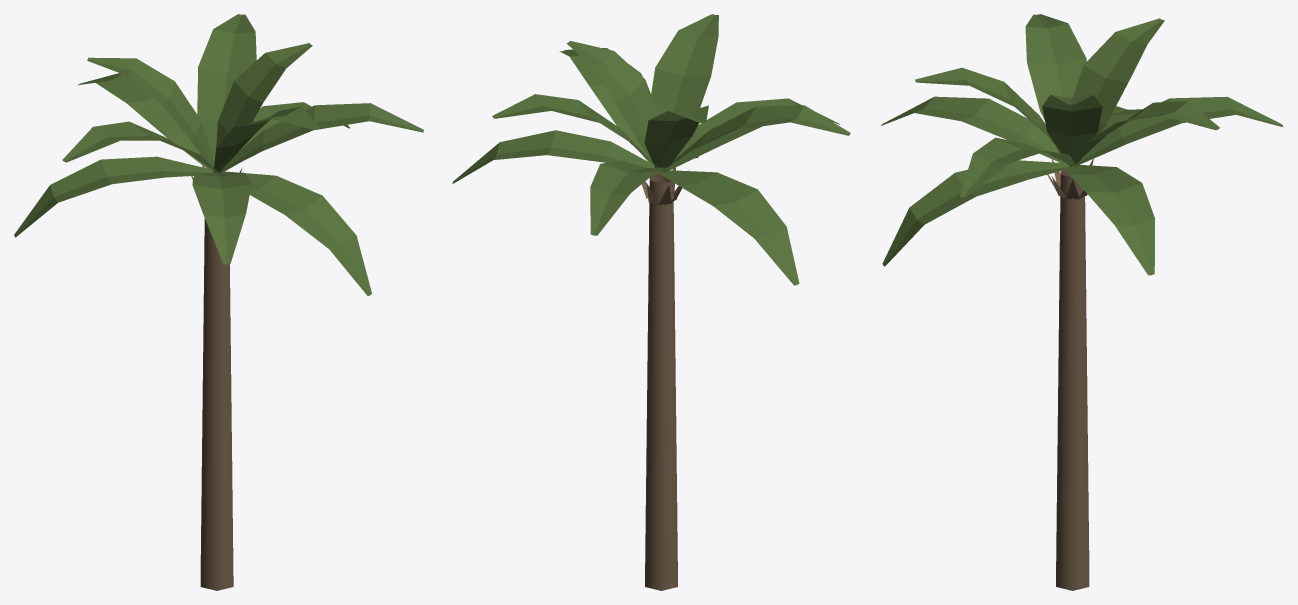
File: palm_lod1.glb
3 views of the same model, side by side, from view 1: azimuth 30°, elevation 25°; view 2: azimuth 150°, elevation 25°; view 3: azimuth 270°, elevation 25° (orthographic).
Parts seen in each view (by area): view 1: palm_lod1; view 2: palm_lod1; view 3: palm_lod1.
Boxes of the visible parts, x1,y1,x2,y2 form: palm_lod1: [14, 14, 423, 590]; palm_lod1: [452, 14, 850, 590]; palm_lod1: [881, 14, 1283, 590].
Size of the model in its own units: 6.63 by 9.58 by 6.69.
